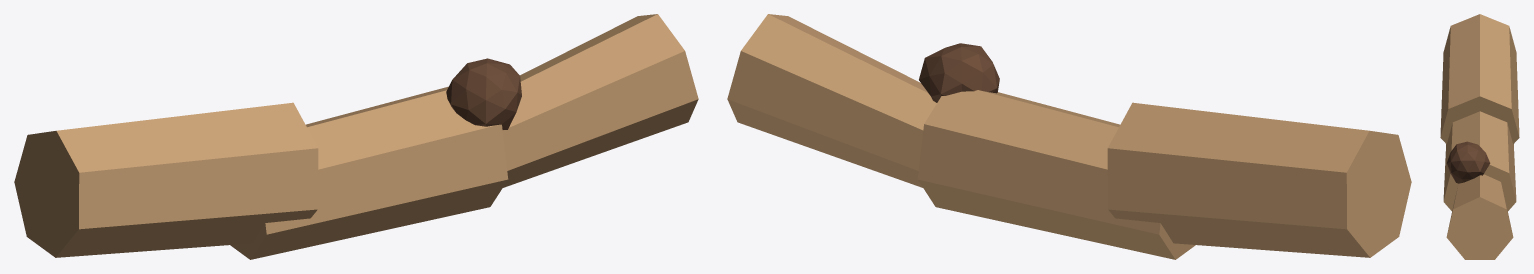
Rendered from deco_driftwood.obj.
The picture shows the model from 3 angles, left to right: view 1: azimuth 30°, elevation 25°; view 2: azimuth 150°, elevation 25°; view 3: azimuth 270°, elevation 25°; orthographic projection. The views are drawn at different scales.
Parts seen in each view (by area): view 1: deco_driftwood; view 2: deco_driftwood; view 3: deco_driftwood.
Part boxes in pixels (bbox=[...]): deco_driftwood: bbox=[14, 14, 698, 259]; deco_driftwood: bbox=[727, 14, 1411, 259]; deco_driftwood: bbox=[1440, 14, 1519, 259].
Bounding box in the file's own units: 0.1327 × 0.0336 × 0.0253.
Materials: 1 (1 with a texture image).
